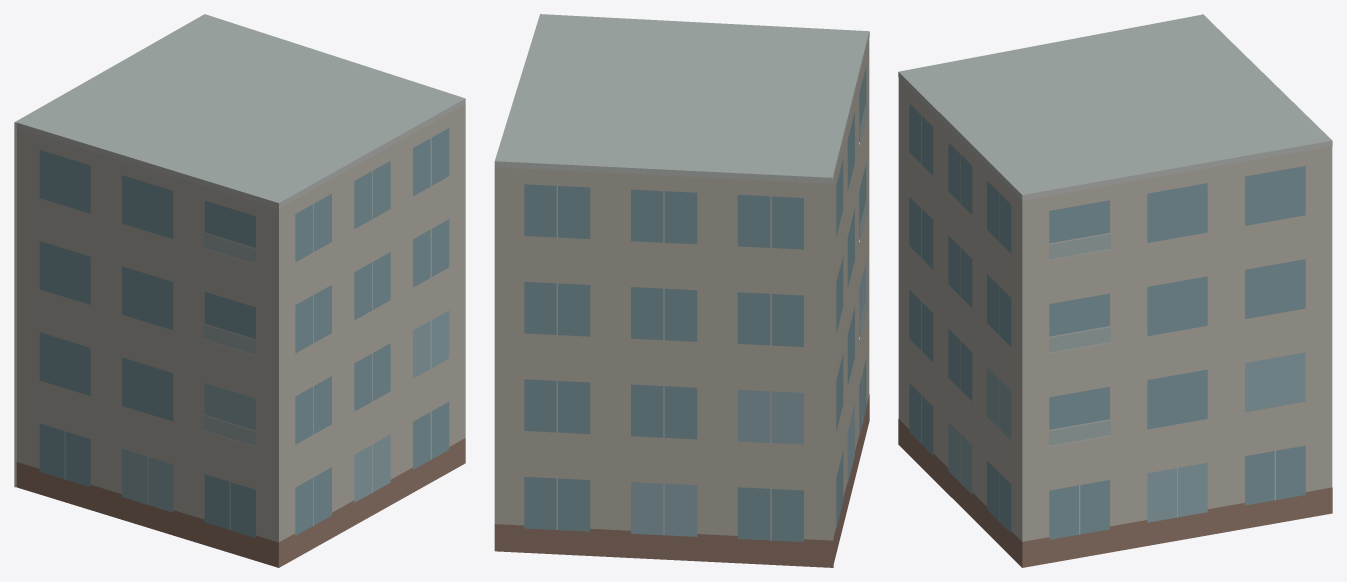
Rendered from survey-upis-32865366.glb.
3 renders of one model, left to right at view 1: azimuth 30°, elevation 25°; view 2: azimuth 150°, elevation 25°; view 3: azimuth 270°, elevation 25°, orthographic. The views are drawn at different scales.
Visible parts, largest first — view 1: survey-upis-32865366.tmp; view 2: survey-upis-32865366.tmp; view 3: survey-upis-32865366.tmp.
Part boxes in pixels (bbox=[...]): survey-upis-32865366.tmp: bbox=[14, 14, 465, 567]; survey-upis-32865366.tmp: bbox=[494, 14, 869, 567]; survey-upis-32865366.tmp: bbox=[898, 14, 1332, 567].
Size of the model in its own units: 16.56 by 15.9 by 16.78.
